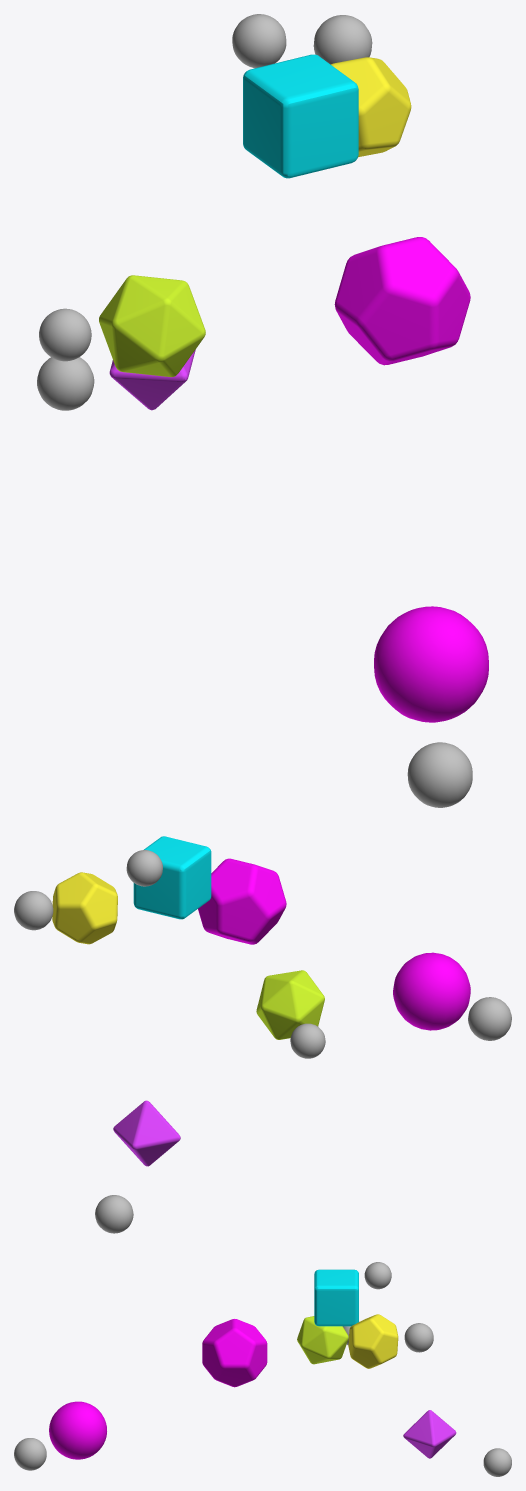
File: sistema.gltf
3 views of the same model, one above another, from view 1: azimuth 30°, elevation 25°; view 2: azimuth 150°, elevation 25°; view 3: azimuth 270°, elevation 25° (orthographic). The views are drawn at different scales.
Visible parts, largest first — view 1: dodecaedro_centro2, cubo, esfera, icosaedro, dodecaedro, EsferaEsfera, OctaedroEsfera, EsferaCubo, DodecaedroEsfera, IcosaedroEsfera, octaedro; view 2: dodecaedro_centro2, esfera, cubo, dodecaedro, icosaedro, octaedro, EsferaEsfera, DodecaedroEsfera, OctaedroEsfera, EsferaCubo, IcosaedroEsfera; view 3: dodecaedro_centro2, esfera, cubo, dodecaedro, icosaedro, octaedro, EsferaEsfera, DodecaedroEsfera, OctaedroEsfera, EsferaCubo.
Part boxes in pixels (box(x1,y1,x2,y2)): dodecaedro_centro2: box(334, 237, 470, 365); cubo: box(243, 54, 358, 178); esfera: box(374, 606, 488, 722); icosaedro: box(99, 275, 205, 377); dodecaedro: box(331, 57, 411, 157); EsferaEsfera: box(407, 742, 472, 807); OctaedroEsfera: box(37, 357, 94, 410); EsferaCubo: box(232, 14, 286, 68); DodecaedroEsfera: box(313, 15, 372, 64); IcosaedroEsfera: box(39, 308, 91, 361); octaedro: box(109, 350, 195, 410); dodecaedro_centro2: box(198, 858, 286, 944); esfera: box(393, 952, 470, 1030); cubo: box(133, 836, 211, 919); dodecaedro: box(52, 872, 117, 944); icosaedro: box(256, 970, 324, 1039); octaedro: box(113, 1100, 180, 1166); EsferaEsfera: box(468, 997, 511, 1040); DodecaedroEsfera: box(14, 891, 53, 930); OctaedroEsfera: box(95, 1195, 133, 1233); EsferaCubo: box(126, 850, 162, 886); IcosaedroEsfera: box(290, 1023, 325, 1058); dodecaedro_centro2: box(202, 1319, 267, 1387); esfera: box(49, 1401, 106, 1459); cubo: box(314, 1269, 358, 1326); dodecaedro: box(348, 1314, 398, 1368); icosaedro: box(297, 1316, 348, 1364); octaedro: box(403, 1410, 456, 1458); EsferaEsfera: box(14, 1438, 46, 1470); DodecaedroEsfera: box(404, 1323, 433, 1352); OctaedroEsfera: box(483, 1448, 511, 1476); EsferaCubo: box(364, 1262, 391, 1289).
Bounding box in the file's own units: 0.0777 × 0.0935 × 0.1712.
